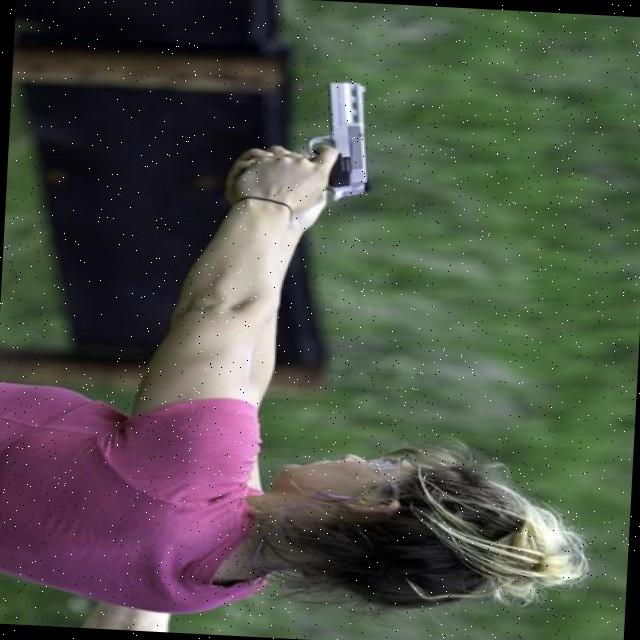Handgun: (234, 72, 376, 215)
